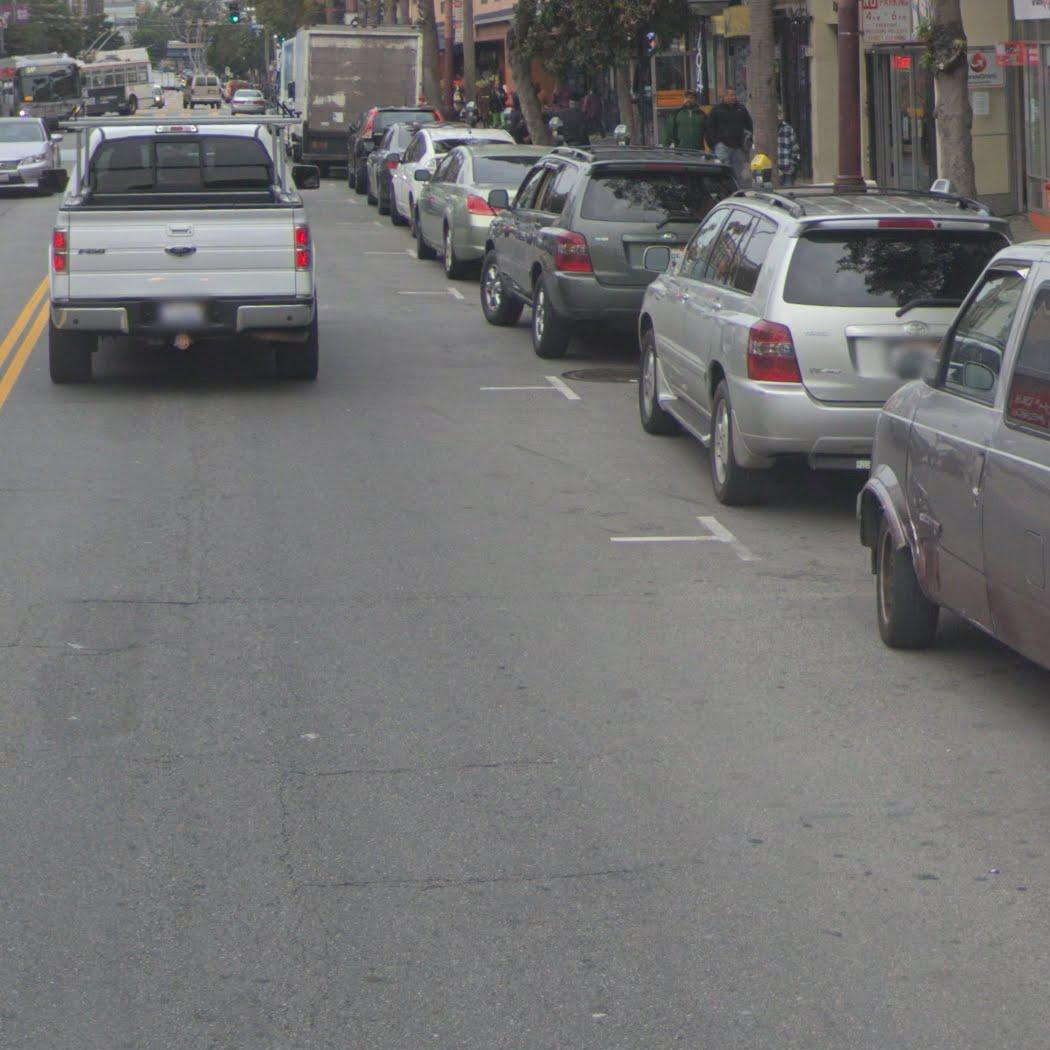No Parking: (862, 0, 907, 49)
